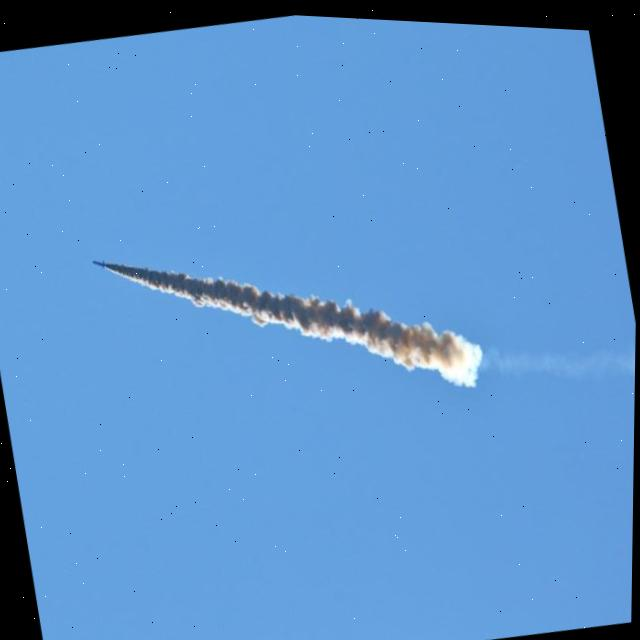missile: (90, 256, 106, 268)
